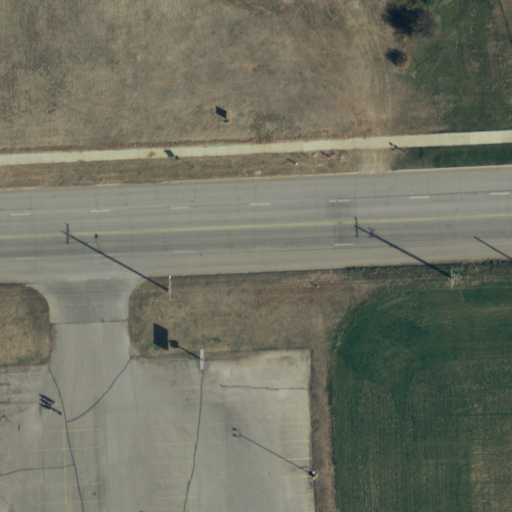DT: (440, 261, 465, 291), (159, 272, 178, 304)
